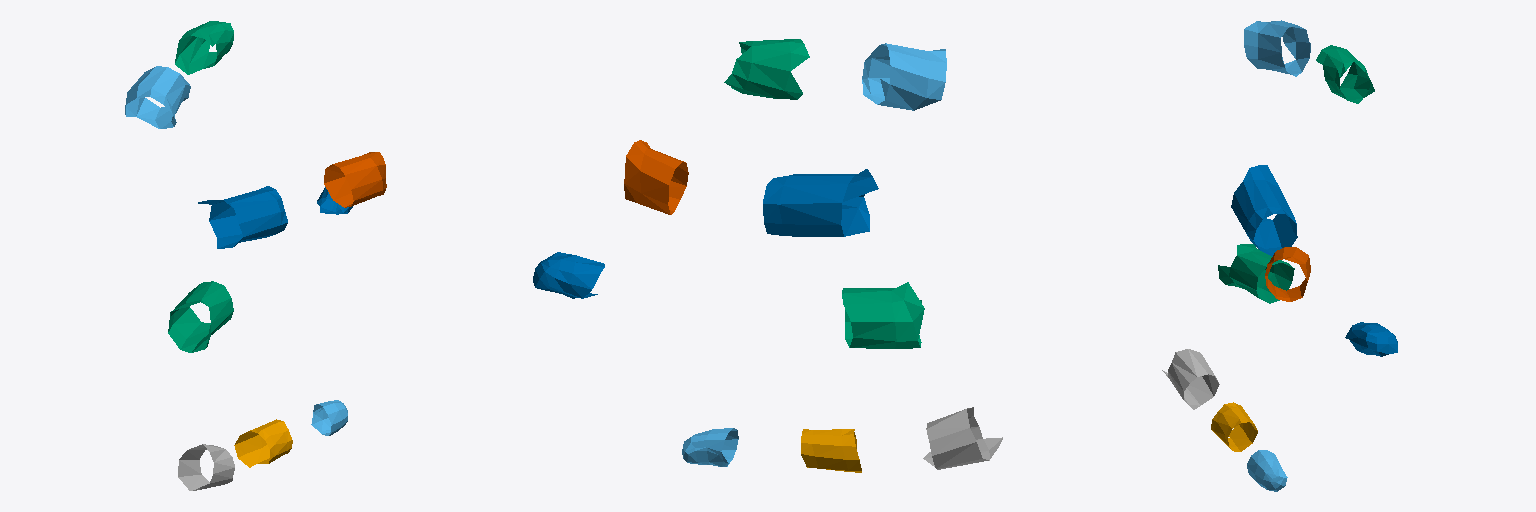
The robot description file, URDF, robot "mano_hand":
<?xml version='1.0' encoding='utf-8'?>
<robot name="mano_hand">
  <link name="hand">
    <inertial>
      <origin xyz="0 0 0" rpy="0 0 0" />
      <mass value="0.01" />
      <inertia ixx="1e-06" ixy="0" ixz="0" iyy="1e-06" iyz="0" izz="1e-06" />
    </inertial>
    <visual>
      <origin xyz="0 0 0" rpy="0 0 0" />
      <geometry>
        <mesh filename="meshes\hand.stl"  />
      </geometry>
    </visual>
    <collision>
      <origin xyz="0 0 0" rpy="0 0 0" />
      <geometry>
        <mesh filename="meshes\hand.stl"  />
      </geometry>
    </collision>
  </link>
  <link name="link_joint_1">
    <inertial>
      <origin xyz="0.0 0.0 0.0" rpy="0 0 0" />
      <mass value="0.01" />
      <inertia ixx="1e-06" ixy="0" ixz="0" iyy="1e-06" iyz="0" izz="1e-06" />
    </inertial>
    <visual>
      <origin xyz="0 0 0" rpy="0 0 0" />
      <geometry>
        <mesh filename="meshes\link_joint_1.stl"  />
      </geometry>
    </visual>
    <collision>
      <origin xyz="0 0 0" rpy="0 0 0" />
      <geometry>
        <mesh filename="meshes\link_joint_1.stl"  />
      </geometry>
    </collision>
  </link>
  <link name="link_joint_2">
    <inertial>
      <origin xyz="0.0 0.0 0.0" rpy="0 0 0" />
      <mass value="0.01" />
      <inertia ixx="1e-06" ixy="0" ixz="0" iyy="1e-06" iyz="0" izz="1e-06" />
    </inertial>
    <visual>
      <origin xyz="0 0 0" rpy="0 0 0" />
      <geometry>
        <mesh filename="meshes\link_joint_2.stl"  />
      </geometry>
    </visual>
    <collision>
      <origin xyz="0 0 0" rpy="0 0 0" />
      <geometry>
        <mesh filename="meshes\link_joint_2.stl"  />
      </geometry>
    </collision>
  </link>
  <link name="link_joint_3">
    <inertial>
      <origin xyz="0.0 0.0 0.0" rpy="0 0 0" />
      <mass value="0.01" />
      <inertia ixx="1e-06" ixy="0" ixz="0" iyy="1e-06" iyz="0" izz="1e-06" />
    </inertial>
    <visual>
      <origin xyz="0 0 0" rpy="0 0 0" />
      <geometry>
        <mesh filename="meshes\link_joint_3.stl"  />
      </geometry>
    </visual>
    <collision>
      <origin xyz="0 0 0" rpy="0 0 0" />
      <geometry>
        <mesh filename="meshes\link_joint_3.stl"  />
      </geometry>
    </collision>
  </link>
  <link name="link_joint_4">
    <inertial>
      <origin xyz="0.0 0.0 0.0" rpy="0 0 0" />
      <mass value="0.01" />
      <inertia ixx="1e-06" ixy="0" ixz="0" iyy="1e-06" iyz="0" izz="1e-06" />
    </inertial>
    <visual>
      <origin xyz="0 0 0" rpy="0 0 0" />
      <geometry>
        <mesh filename="meshes\link_joint_4.stl"  />
      </geometry>
    </visual>
    <collision>
      <origin xyz="0 0 0" rpy="0 0 0" />
      <geometry>
        <mesh filename="meshes\link_joint_4.stl"  />
      </geometry>
    </collision>
  </link>
  <link name="link_joint_5">
    <inertial>
      <origin xyz="0.0 0.0 0.0" rpy="0 0 0" />
      <mass value="0.01" />
      <inertia ixx="1e-06" ixy="0" ixz="0" iyy="1e-06" iyz="0" izz="1e-06" />
    </inertial>
    <visual>
      <origin xyz="0 0 0" rpy="0 0 0" />
      <geometry>
        <mesh filename="meshes\link_joint_5.stl"  />
      </geometry>
    </visual>
    <collision>
      <origin xyz="0 0 0" rpy="0 0 0" />
      <geometry>
        <mesh filename="meshes\link_joint_5.stl"  />
      </geometry>
    </collision>
  </link>
  <link name="link_joint_6">
    <inertial>
      <origin xyz="0.0 0.0 0.0" rpy="0 0 0" />
      <mass value="0.01" />
      <inertia ixx="1e-06" ixy="0" ixz="0" iyy="1e-06" iyz="0" izz="1e-06" />
    </inertial>
    <visual>
      <origin xyz="0 0 0" rpy="0 0 0" />
      <geometry>
        <mesh filename="meshes\link_joint_6.stl"  />
      </geometry>
    </visual>
    <collision>
      <origin xyz="0 0 0" rpy="0 0 0" />
      <geometry>
        <mesh filename="meshes\link_joint_6.stl"  />
      </geometry>
    </collision>
  </link>
  <link name="link_joint_7">
    <inertial>
      <origin xyz="0.0 0.0 0.0" rpy="0 0 0" />
      <mass value="0.01" />
      <inertia ixx="1e-06" ixy="0" ixz="0" iyy="1e-06" iyz="0" izz="1e-06" />
    </inertial>
    <visual>
      <origin xyz="0 0 0" rpy="0 0 0" />
      <geometry>
        <mesh filename="meshes\link_joint_7.stl"  />
      </geometry>
    </visual>
    <collision>
      <origin xyz="0 0 0" rpy="0 0 0" />
      <geometry>
        <mesh filename="meshes\link_joint_7.stl"  />
      </geometry>
    </collision>
  </link>
  <link name="link_joint_8">
    <inertial>
      <origin xyz="0.0 0.0 0.0" rpy="0 0 0" />
      <mass value="0.01" />
      <inertia ixx="1e-06" ixy="0" ixz="0" iyy="1e-06" iyz="0" izz="1e-06" />
    </inertial>
    <visual>
      <origin xyz="0 0 0" rpy="0 0 0" />
      <geometry>
        <mesh filename="meshes\link_joint_8.stl"  />
      </geometry>
    </visual>
    <collision>
      <origin xyz="0 0 0" rpy="0 0 0" />
      <geometry>
        <mesh filename="meshes\link_joint_8.stl"  />
      </geometry>
    </collision>
  </link>
  <link name="link_joint_9">
    <inertial>
      <origin xyz="0.0 0.0 0.0" rpy="0 0 0" />
      <mass value="0.01" />
      <inertia ixx="1e-06" ixy="0" ixz="0" iyy="1e-06" iyz="0" izz="1e-06" />
    </inertial>
    <visual>
      <origin xyz="0 0 0" rpy="0 0 0" />
      <geometry>
        <mesh filename="meshes\link_joint_9.stl"  />
      </geometry>
    </visual>
    <collision>
      <origin xyz="0 0 0" rpy="0 0 0" />
      <geometry>
        <mesh filename="meshes\link_joint_9.stl"  />
      </geometry>
    </collision>
  </link>
  <link name="link_joint_10">
    <inertial>
      <origin xyz="0.0 0.0 0.0" rpy="0 0 0" />
      <mass value="0.01" />
      <inertia ixx="1e-06" ixy="0" ixz="0" iyy="1e-06" iyz="0" izz="1e-06" />
    </inertial>
    <visual>
      <origin xyz="0 0 0" rpy="0 0 0" />
      <geometry>
        <mesh filename="meshes\link_joint_10.stl"  />
      </geometry>
    </visual>
    <collision>
      <origin xyz="0 0 0" rpy="0 0 0" />
      <geometry>
        <mesh filename="meshes\link_joint_10.stl"  />
      </geometry>
    </collision>
  </link>
  <link name="link_joint_11">
    <inertial>
      <origin xyz="0.0 0.0 0.0" rpy="0 0 0" />
      <mass value="0.01" />
      <inertia ixx="1e-06" ixy="0" ixz="0" iyy="1e-06" iyz="0" izz="1e-06" />
    </inertial>
    <visual>
      <origin xyz="0 0 0" rpy="0 0 0" />
      <geometry>
        <mesh filename="meshes\link_joint_11.stl"  />
      </geometry>
    </visual>
    <collision>
      <origin xyz="0 0 0" rpy="0 0 0" />
      <geometry>
        <mesh filename="meshes\link_joint_11.stl"  />
      </geometry>
    </collision>
  </link>
  <link name="link_joint_12">
    <inertial>
      <origin xyz="0.0 0.0 0.0" rpy="0 0 0" />
      <mass value="0.01" />
      <inertia ixx="1e-06" ixy="0" ixz="0" iyy="1e-06" iyz="0" izz="1e-06" />
    </inertial>
    <visual>
      <origin xyz="0 0 0" rpy="0 0 0" />
      <geometry>
        <mesh filename="meshes\link_joint_12.stl"  />
      </geometry>
    </visual>
    <collision>
      <origin xyz="0 0 0" rpy="0 0 0" />
      <geometry>
        <mesh filename="meshes\link_joint_12.stl"  />
      </geometry>
    </collision>
  </link>
  <link name="link_joint_13">
    <inertial>
      <origin xyz="0.0 0.0 0.0" rpy="0 0 0" />
      <mass value="0.01" />
      <inertia ixx="1e-06" ixy="0" ixz="0" iyy="1e-06" iyz="0" izz="1e-06" />
    </inertial>
    <visual>
      <origin xyz="0 0 0" rpy="0 0 0" />
      <geometry>
        <mesh filename="meshes\link_joint_13.stl"  />
      </geometry>
    </visual>
    <collision>
      <origin xyz="0 0 0" rpy="0 0 0" />
      <geometry>
        <mesh filename="meshes\link_joint_13.stl"  />
      </geometry>
    </collision>
  </link>
  <link name="link_joint_14">
    <inertial>
      <origin xyz="0.0 0.0 0.0" rpy="0 0 0" />
      <mass value="0.01" />
      <inertia ixx="1e-06" ixy="0" ixz="0" iyy="1e-06" iyz="0" izz="1e-06" />
    </inertial>
    <visual>
      <origin xyz="0 0 0" rpy="0 0 0" />
      <geometry>
        <mesh filename="meshes\link_joint_14.stl"  />
      </geometry>
    </visual>
    <collision>
      <origin xyz="0 0 0" rpy="0 0 0" />
      <geometry>
        <mesh filename="meshes\link_joint_14.stl"  />
      </geometry>
    </collision>
  </link>
  <link name="link_joint_15">
    <inertial>
      <origin xyz="0.0 0.0 0.0" rpy="0 0 0" />
      <mass value="0.01" />
      <inertia ixx="1e-06" ixy="0" ixz="0" iyy="1e-06" iyz="0" izz="1e-06" />
    </inertial>
    <visual>
      <origin xyz="0 0 0" rpy="0 0 0" />
      <geometry>
        <mesh filename="meshes\link_joint_15.stl"  />
      </geometry>
    </visual>
    <collision>
      <origin xyz="0 0 0" rpy="0 0 0" />
      <geometry>
        <mesh filename="meshes\link_joint_15.stl"  />
      </geometry>
    </collision>
  </link>
  <joint name="joint_hand_to_link_joint_1" type="revolute">
    <parent link="hand" />
    <child link="link_joint_1" />
    <origin xyz="0.051664 0.023198 0.042563" rpy="0 0 0" />
    <axis xyz="0 0 1" />
  <limit lower="-0.1" upper="0.1" effort="50" velocity="0.1" /></joint>
  <joint name="joint_hand_to_link_joint_2" type="revolute">
    <parent link="link_joint_1" />
    <child link="link_joint_2" />
    <origin xyz="0.018934 0.013727 0.002262" rpy="0 0 0" />
    <axis xyz="0 0 1" />
  <limit lower="-0.1" upper="0.1" effort="50" velocity="0.1" /></joint>
  <joint name="joint_hand_to_link_joint_3" type="revolute">
    <parent link="link_joint_2" />
    <child link="link_joint_3" />
    <origin xyz="0.023655 0.006995 0.003565" rpy="0 0 0" />
    <axis xyz="0 0 1" />
  <limit lower="-0.1" upper="0.1" effort="50" velocity="0.1" /></joint>
  <joint name="joint_hand_to_link_joint_4" type="revolute">
    <parent link="hand" />
    <child link="link_joint_4" />
    <origin xyz="0.070767 0.019920 0.013105" rpy="0 0 0" />
    <axis xyz="0 0 1" />
  <limit lower="-0.1" upper="0.1" effort="50" velocity="0.1" /></joint>
  <joint name="joint_hand_to_link_joint_5" type="revolute">
    <parent link="link_joint_4" />
    <child link="link_joint_5" />
    <origin xyz="0.028320 0.004821 -0.000130" rpy="0 0 0" />
    <axis xyz="0 0 1" />
  <limit lower="-0.1" upper="0.1" effort="50" velocity="0.1" /></joint>
  <joint name="joint_hand_to_link_joint_6" type="revolute">
    <parent link="link_joint_5" />
    <child link="link_joint_6" />
    <origin xyz="0.021303 -0.006496 -0.004426" rpy="0 0 0" />
    <axis xyz="0 0 1" />
  <limit lower="-0.1" upper="0.1" effort="50" velocity="0.1" /></joint>
  <joint name="joint_hand_to_link_joint_7" type="revolute">
    <parent link="hand" />
    <child link="link_joint_7" />
    <origin xyz="0.052688 0.004887 -0.032527" rpy="0 0 0" />
    <axis xyz="0 0 1" />
  <limit lower="-0.1" upper="0.1" effort="50" velocity="0.1" /></joint>
  <joint name="joint_hand_to_link_joint_8" type="revolute">
    <parent link="link_joint_7" />
    <child link="link_joint_8" />
    <origin xyz="0.018858 0.009039 -0.002229" rpy="0 0 0" />
    <axis xyz="0 0 1" />
  <limit lower="-0.1" upper="0.1" effort="50" velocity="0.1" /></joint>
  <joint name="joint_hand_to_link_joint_9" type="revolute">
    <parent link="link_joint_8" />
    <child link="link_joint_9" />
    <origin xyz="0.019724 0.006842 -0.001372" rpy="0 0 0" />
    <axis xyz="0 0 1" />
  <limit lower="-0.1" upper="0.1" effort="50" velocity="0.1" /></joint>
  <joint name="joint_hand_to_link_joint_10" type="revolute">
    <parent link="hand" />
    <child link="link_joint_10" />
    <origin xyz="0.058972 0.018716 -0.005755" rpy="0 0 0" />
    <axis xyz="0 0 1" />
  <limit lower="-0.1" upper="0.1" effort="50" velocity="0.1" /></joint>
  <joint name="joint_hand_to_link_joint_11" type="revolute">
    <parent link="link_joint_10" />
    <child link="link_joint_11" />
    <origin xyz="0.024644 0.011442 0.001914" rpy="0 0 0" />
    <axis xyz="0 0 1" />
  <limit lower="-0.1" upper="0.1" effort="50" velocity="0.1" /></joint>
  <joint name="joint_hand_to_link_joint_12" type="revolute">
    <parent link="link_joint_11" />
    <child link="link_joint_12" />
    <origin xyz="0.022394 0.012508 0.004953" rpy="0 0 0" />
    <axis xyz="0 0 1" />
  <limit lower="-0.1" upper="0.1" effort="50" velocity="0.1" /></joint>
  <joint name="joint_hand_to_link_joint_13" type="revolute">
    <parent link="hand" />
    <child link="link_joint_13" />
    <origin xyz="-0.016786 -0.033837 0.020339" rpy="0 0 0" />
    <axis xyz="0 0 1" />
  <limit lower="-0.1" upper="0.1" effort="50" velocity="0.1" /></joint>
  <joint name="joint_hand_to_link_joint_14" type="revolute">
    <parent link="link_joint_13" />
    <child link="link_joint_14" />
    <origin xyz="0.019242 -0.008807 0.014586" rpy="0 0 0" />
    <axis xyz="0 0 1" />
  <limit lower="-0.1" upper="0.1" effort="50" velocity="0.1" /></joint>
  <joint name="joint_hand_to_link_joint_15" type="revolute">
    <parent link="link_joint_14" />
    <child link="link_joint_15" />
    <origin xyz="0.014865 -0.008133 0.027492" rpy="0 0 0" />
    <axis xyz="0 0 1" />
  <limit lower="-0.1" upper="0.1" effort="50" velocity="0.1" /></joint>
</robot>

--- What the picture shows (computed from the rendered views, not written in the file) ---
3 views of the same robot in one strip: view 1: azimuth 30°, elevation 25°; view 2: azimuth 150°, elevation 25°; view 3: azimuth 270°, elevation 25° (orthographic).
Robot: mano_hand — 16 links, 15 joints (15 revolute); root link hand; default pose: all joints at 0.
Visible links, largest first — view 1: link_joint_4, link_joint_10, link_joint_1, link_joint_5, link_joint_2, link_joint_8, link_joint_7, link_joint_9; view 2: link_joint_4, link_joint_10, link_joint_1, link_joint_2, link_joint_5, link_joint_7, link_joint_12, link_joint_8, link_joint_9; view 3: link_joint_4, link_joint_1, link_joint_10, link_joint_7, link_joint_2, link_joint_8, link_joint_12, link_joint_9, link_joint_5.
Boxes of the visible links, left/top/right/bottom form: link_joint_4: left=198, top=186, right=287, bottom=248; link_joint_10: left=168, top=281, right=233, bottom=352; link_joint_1: left=125, top=66, right=190, bottom=128; link_joint_5: left=324, top=152, right=386, bottom=207; link_joint_2: left=175, top=21, right=233, bottom=74; link_joint_8: left=234, top=419, right=292, bottom=467; link_joint_7: left=178, top=444, right=234, bottom=490; link_joint_9: left=311, top=400, right=347, bottom=435; link_joint_4: left=763, top=169, right=878, bottom=236; link_joint_10: left=842, top=282, right=924, bottom=348; link_joint_1: left=862, top=43, right=946, bottom=110; link_joint_2: left=724, top=39, right=809, bottom=99; link_joint_5: left=624, top=140, right=688, bottom=214; link_joint_7: left=923, top=407, right=1002, bottom=469; link_joint_12: left=533, top=252, right=604, bottom=298; link_joint_8: left=801, top=429, right=861, bottom=472; link_joint_9: left=682, top=428, right=738, bottom=466; link_joint_4: left=1231, top=165, right=1297, bottom=256; link_joint_1: left=1244, top=20, right=1310, bottom=76; link_joint_10: left=1218, top=244, right=1294, bottom=303; link_joint_7: left=1162, top=349, right=1219, bottom=409; link_joint_2: left=1316, top=45, right=1374, bottom=103; link_joint_8: left=1211, top=402, right=1257, bottom=451; link_joint_12: left=1345, top=322, right=1397, bottom=356; link_joint_9: left=1247, top=450, right=1287, bottom=491; link_joint_5: left=1265, top=247, right=1310, bottom=301.
Size in the robot's own frame: 0.1338 by 0.0974 by 0.1776 metres.
Meshes: 16 distinct files referenced, 9 mesh visuals loaded (9 binary STL); not drawn: 7 (reference not matched to a file when rendering).
